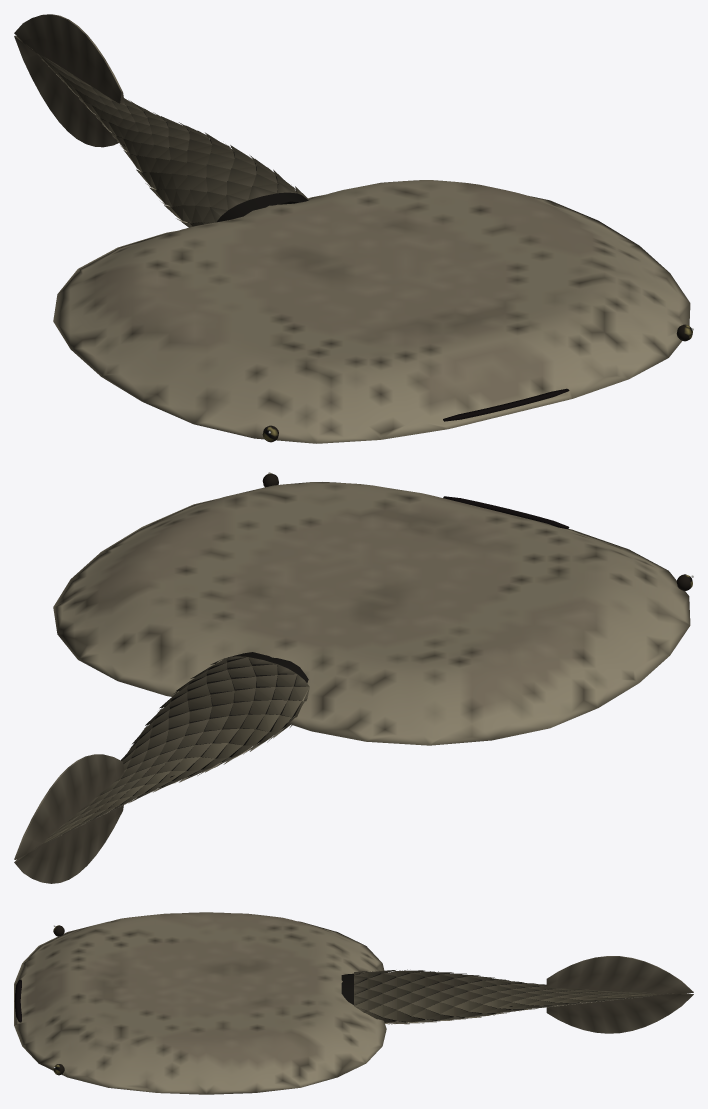
File: Drepanaspis.fbx
3 renders of one model, top to bottom at view 1: azimuth 30°, elevation 25°; view 2: azimuth 150°, elevation 25°; view 3: azimuth 270°, elevation 25°, orthographic. The views are drawn at different scales.
Parts seen in each view (by area): view 1: Drepanaspis; view 2: Drepanaspis; view 3: Drepanaspis.
Part boxes in pixels (x1=…): Drepanaspis: x1=14, y1=14, x2=693, y2=443; Drepanaspis: x1=14, y1=472, x2=693, y2=883; Drepanaspis: x1=14, y1=912, x2=693, y2=1094.
Size of the model in its own units: 1.04 by 0.2082 by 1.66.
